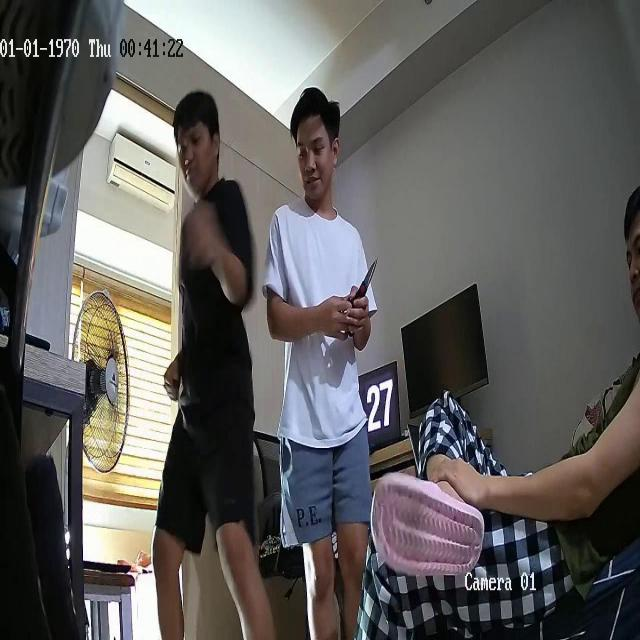scissor: (347, 257, 378, 338)
